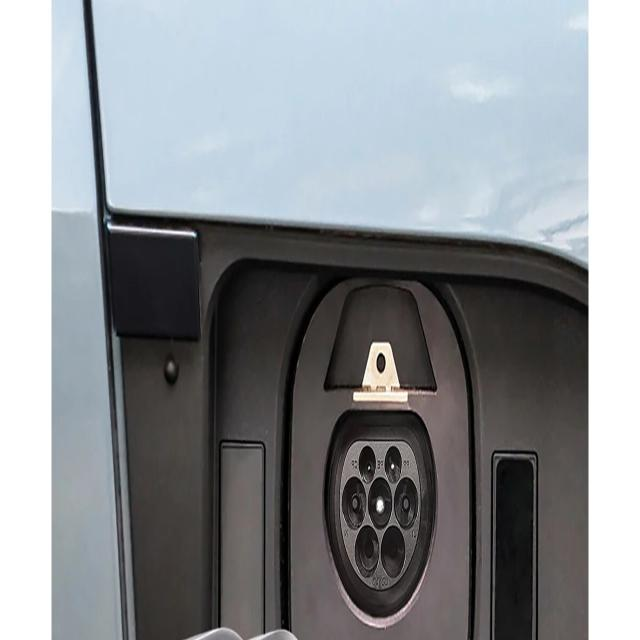Type 2: (311, 402, 445, 632)
